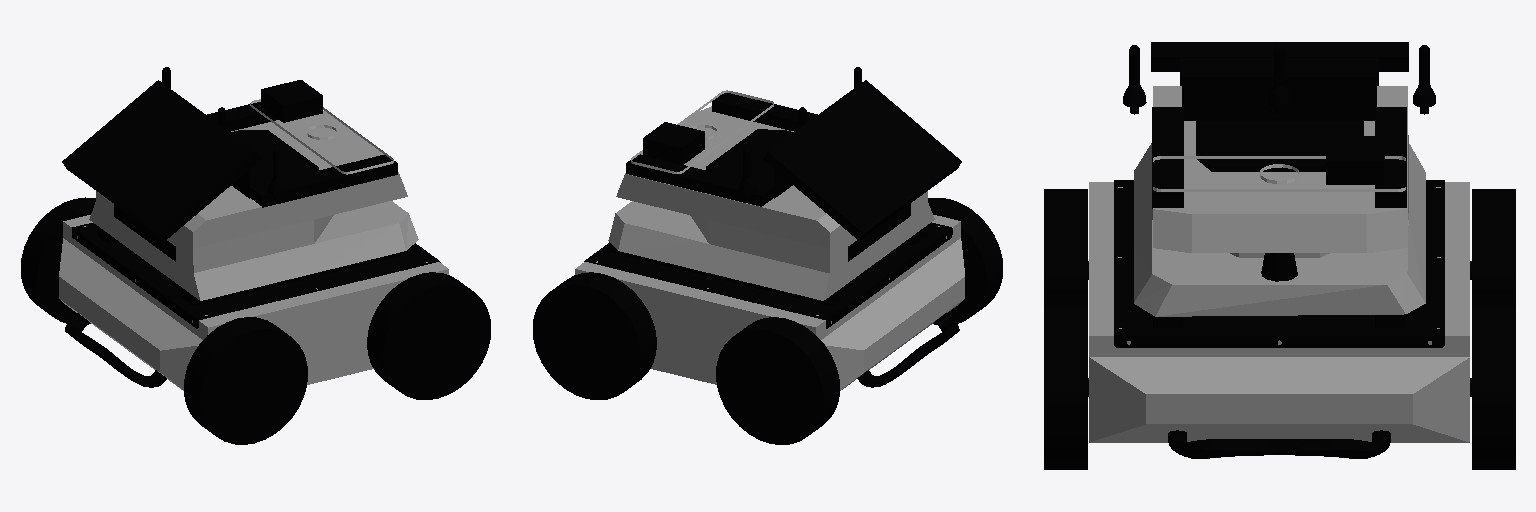
URDF robot description (mmc1_mr):
<?xml version="1.0" encoding="utf-8"?>
<!-- This URDF was automatically created by SolidWorks to URDF Exporter! Originally created by Stephen Brawner (brawner@gmail.com) 
     Commit Version: 1.5.1-0-g916b5db  Build Version: 1.5.7152.31018
     For more information, please see http://wiki.ros.org/sw_urdf_exporter -->
<robot
  name="mmc1_mr">
  <link
    name="base_link">
    <inertial>
      <origin
        xyz="-0.024749 0.0027022 0.050441"
        rpy="0 0 0" />
      <mass
        value="18" />
      <inertia
        ixx="0.021933"
        ixy="0.00047885"
        ixz="0.0012726"
        iyy="0.027828"
        iyz="-0.00011003"
        izz="0.045622" />
    </inertial>
    <visual>
      <origin
        xyz="0 0 0"
        rpy="0 0 0" />
      <geometry>
        <mesh
          filename="package://mmc1_description/meshes/base_link_sc.STL" />
      </geometry>
      <material
        name="">
        <color
          rgba="0.62 0.62 0.62 1" />
      </material>
    </visual>
    <collision>
      <origin
        xyz="0 0 0"
        rpy="0 0 0" />
      <geometry>
        <mesh
          filename="package://mmc1_description/meshes/base_link_sc.STL" />
      </geometry>
    </collision>
  </link>
  <link
    name="base_black_link">
    <inertial>
      <origin
        xyz="0.0030623 4.2491E-06 -0.054227"
        rpy="0 0 0" />
      <mass
        value="11" />
      <inertia
        ixx="0.01124"
        ixy="-3.9646E-07"
        ixz="9.4683E-06"
        iyy="0.009435"
        iyz="1.3728E-08"
        izz="0.020524" />
    </inertial>
    <visual>
      <origin
        xyz="0 0 0"
        rpy="0 0 0" />
      <geometry>
        <mesh
          filename="package://mmc1_description/meshes/base_black_link.STL" />
      </geometry>
      <material
        name="">
        <color
          rgba="0.03 0.03 0.03 1" />
      </material>
    </visual>
    <collision>
      <origin
        xyz="0 0 0"
        rpy="0 0 0" />
      <geometry>
        <mesh
          filename="package://mmc1_description/meshes/base_black_link.STL" />
      </geometry>
    </collision>
  </link>
  <joint
    name="base_black_joint"
    type="fixed">
    <origin
      xyz="-0.0021657 0 0.1537"
      rpy="0 0 0" />
    <parent
      link="base_link" />
    <child
      link="base_black_link" />
    <axis
      xyz="0 0 0" />
  </joint>
  <link
    name="front_left_wheel_link">
    <inertial>
      <origin
        xyz="-1.0457E-05 -0.009711 1.2528E-05"
        rpy="0 0 0" />
      <mass
        value="1.5" />
      <inertia
        ixx="0.0023806"
        ixy="-5.1799E-09"
        ixz="3.3691E-07"
        iyy="0.004547"
        iyz="4.7143E-09"
        izz="0.0023798" />
    </inertial>
    <visual>
      <origin
        xyz="0 0 0"
        rpy="0 0 0" />
      <geometry>
        <mesh
          filename="package://mmc1_description/meshes/front_left_wheel_link_sc.STL" />
      </geometry>
      <material
        name="">
        <color
          rgba="0.03 0.03 0.03 1" />
      </material>
    </visual>
    <collision>
      <origin
        xyz="0 0 0"
        rpy="0 0 0" />
      <geometry>
        <mesh
          filename="package://mmc1_description/meshes/front_left_wheel_link_sc.STL" />
      </geometry>
    </collision>
  </link>
  <joint
    name="front_left_wheel_joint"
    type="continuous">
    <origin
      xyz="0.175 0.28005 0.052199"
      rpy="0 0 0" />
    <parent
      link="base_link" />
    <child
      link="front_left_wheel_link" />
    <axis
      xyz="0 -1 0" />
  </joint>
  <link
    name="front_right_wheel_link">
    <inertial>
      <origin
        xyz="5.9336E-06 0.0097111 -1.4936E-05"
        rpy="0 0 0" />
      <mass
        value="1.5" />
      <inertia
        ixx="0.0023802"
        ixy="-3.3583E-09"
        ixz="5.1898E-07"
        iyy="0.0045471"
        iyz="6.8879E-09"
        izz="0.0023801" />
    </inertial>
    <visual>
      <origin
        xyz="0 0 0"
        rpy="0 0 0" />
      <geometry>
        <mesh
          filename="package://mmc1_description/meshes/front_right_wheel_link_sc.STL" />
      </geometry>
      <material
        name="">
        <color
          rgba="0.03 0.03 0.03 1" />
      </material>
    </visual>
    <collision>
      <origin
        xyz="0 0 0"
        rpy="0 0 0" />
      <geometry>
        <mesh
          filename="package://mmc1_description/meshes/front_right_wheel_link_sc.STL" />
      </geometry>
    </collision>
  </link>
  <joint
    name="front_right_wheel_joint"
    type="continuous">
    <origin
      xyz="0.175 -0.28005 0.052202"
      rpy="0 0 0" />
    <parent
      link="base_link" />
    <child
      link="front_right_wheel_link" />
    <axis
      xyz="0 1 0" />
  </joint>
  <link
    name="rear_left_wheel_link">
    <inertial>
      <origin
        xyz="-1.1327E-05 -0.009711 1.1649E-05"
        rpy="0 0 0" />
      <mass
        value="1.5" />
      <inertia
        ixx="0.0023805"
        ixy="-5.5206E-09"
        ixz="3.8945E-07"
        iyy="0.004547"
        iyz="4.432E-09"
        izz="0.0023798" />
    </inertial>
    <visual>
      <origin
        xyz="0 0 0"
        rpy="0 0 0" />
      <geometry>
        <mesh
          filename="package://mmc1_description/meshes/rear_left_wheel_link_sc.STL" />
      </geometry>
      <material
        name="">
        <color
          rgba="0.03 0.03 0.03 1" />
      </material>
    </visual>
    <collision>
      <origin
        xyz="0 0 0"
        rpy="0 0 0" />
      <geometry>
        <mesh
          filename="package://mmc1_description/meshes/rear_left_wheel_link_sc.STL" />
      </geometry>
    </collision>
  </link>
  <joint
    name="rear_left_wheel_joint"
    type="continuous">
    <origin
      xyz="-0.174998131093904 0.280049999999999 0.052198748930327"
      rpy="0 0 0" />
    <parent
      link="base_link" />
    <child
      link="rear_left_wheel_link" />
    <axis
      xyz="0 -1 0" />
  </joint>
  <link
    name="rear_right_wheel_link">
    <inertial>
      <origin
        xyz="6.0975E-06 0.009711 -1.5028E-05"
        rpy="0 0 0" />
      <mass
        value="1.5" />
      <inertia
        ixx="0.0023802"
        ixy="-5.727E-09"
        ixz="5.1897E-07"
        iyy="0.0045471"
        iyz="8.2022E-09"
        izz="0.0023801" />
    </inertial>
    <visual>
      <origin
        xyz="0 0 0"
        rpy="0 0 0" />
      <geometry>
        <mesh
          filename="package://mmc1_description/meshes/rear_right_wheel_link_sc.STL" />
      </geometry>
      <material
        name="">
        <color
          rgba="0.03 0.03 0.03 1" />
      </material>
    </visual>
    <collision>
      <origin
        xyz="0 0 0"
        rpy="0 0 0" />
      <geometry>
        <mesh
          filename="package://mmc1_description/meshes/rear_right_wheel_link_sc.STL" />
      </geometry>
    </collision>
  </link>
  <joint
    name="rear_right_wheel_joint"
    type="continuous">
    <origin
      xyz="-0.175 -0.28005 0.052202"
      rpy="0 0 0" />
    <parent
      link="base_link" />
    <child
      link="rear_right_wheel_link" />
    <axis
      xyz="0 1 0" />
  </joint>
  <link
    name="navi_tool_silver_link">
    <inertial>
      <origin
        xyz="0.018841 -0.00012546 0.058135"
        rpy="0 0 0" />
      <mass
        value="4" />
      <inertia
        ixx="0.0087345"
        ixy="1.3619E-06"
        ixz="-6.4658E-05"
        iyy="0.010197"
        iyz="-9.6238E-07"
        izz="0.016356" />
    </inertial>
    <visual>
      <origin
        xyz="0 0 0"
        rpy="0 0 0" />
      <geometry>
        <mesh
          filename="package://mmc1_description/meshes/navi_tool_silver_link_sc.STL" />
      </geometry>
      <material
        name="">
        <color
          rgba="0.62 0.62 0.62 1" />
      </material>
    </visual>
    <collision>
      <origin
        xyz="0 0 0"
        rpy="0 0 0" />
      <geometry>
        <mesh
          filename="package://mmc1_description/meshes/navi_tool_silver_link_sc.STL" />
      </geometry>
    </collision>
  </link>
  <joint
    name="navi_tool_silver_joint"
    type="fixed">
    <origin
      xyz="0.0039305 8.5407E-05 0.1722"
      rpy="0 0 0" />
    <parent
      link="base_link" />
    <child
      link="navi_tool_silver_link" />
    <axis
      xyz="0 0 0" />
  </joint>
  <link
    name="navi_tool_black_link">
    <inertial>
      <origin
        xyz="-0.14514 0.00011961 -0.00048361"
        rpy="0 0 0" />
      <mass
        value="3" />
      <inertia
        ixx="0.020614"
        ixy="2.8801E-06"
        ixz="-0.0024088"
        iyy="0.0095521"
        iyz="-1.5725E-06"
        izz="0.026573" />
    </inertial>
    <visual>
      <origin
        xyz="0 0 0"
        rpy="0 0 0" />
      <geometry>
        <mesh
          filename="package://mmc1_description/meshes/navi_tool_black_link_sc.STL" />
      </geometry>
      <material
        name="">
        <color
          rgba="0.03 0.03 0.03 1" />
      </material>
    </visual>
    <collision>
      <origin
        xyz="0 0 0"
        rpy="0 0 0" />
      <geometry>
        <mesh
          filename="package://mmc1_description/meshes/navi_tool_black_link_sc.STL" />
      </geometry>
    </collision>
  </link>
  <joint
    name="navi_tool_black_joint"
    type="fixed">
    <origin
      xyz="0.000225099929230491 0 0.3032"
      rpy="0 0 0" />
    <parent
      link="base_link" />
    <child
      link="navi_tool_black_link" />
    <axis
      xyz="0 0 0" />
  </joint>
  <link
    name="imu_link">
    <inertial>
      <origin
        xyz="0 -0.0028567 0.011065"
        rpy="0 0 0" />
      <mass
        value="0.3" />
      <inertia
        ixx="1.0867E-05"
        ixy="5.1072E-20"
        ixz="-2.1104E-21"
        iyy="5.8923E-06"
        iyz="2.3558E-07"
        izz="1.3182E-05" />
    </inertial>
    <visual>
      <origin
        xyz="0 0 0"
        rpy="0 0 0" />
      <geometry>
        <mesh
          filename="package://mmc1_description/meshes/imu_link.STL" />
      </geometry>
      <material
        name="">
        <color
          rgba="0.03 0.03 0.03 1" />
      </material>
    </visual>
    <collision>
      <origin
        xyz="0 0 0"
        rpy="0 0 0" />
      <geometry>
        <mesh
          filename="package://mmc1_description/meshes/imu_link.STL" />
      </geometry>
    </collision>
  </link>
  <joint
    name="imu_joint"
    type="fixed">
    <origin
      xyz="0.051564 0 0.1852"
      rpy="0 0 0" />
    <parent
      link="base_link" />
    <child
      link="imu_link" />
    <axis
      xyz="0 0 0" />
  </joint>
  <link
    name="laser_F_link">
    <inertial>
      <origin
        xyz="-0.000703 0.00013361 0.026328"
        rpy="0 0 0" />
      <mass
        value="0.5" />
      <inertia
        ixx="4.0851E-05"
        ixy="-8.5077E-08"
        ixz="2.92E-07"
        iyy="4.0004E-05"
        iyz="1.3035E-07"
        izz="3.5002E-05" />
    </inertial>
    <visual>
      <origin
        xyz="0 0 0"
        rpy="0 0 0" />
      <geometry>
        <mesh
          filename="package://mmc1_description/meshes/laser_link_sc.STL" />
      </geometry>
      <material
        name="">
        <color
          rgba="0.03 0.03 0.03 1" />
      </material>
    </visual>
    <collision>
      <origin
        xyz="0 0 0"
        rpy="0 0 0" />
      <geometry>
        <mesh
          filename="package://mmc1_description/meshes/laser_link_sc.STL" />
      </geometry>
    </collision>
  </link>
  <joint
    name="laser_F_joint"
    type="fixed">
    <origin
      xyz="0.18095 0 0.1732"
      rpy="0 0 0" />
    <parent
      link="base_link" />
    <child
      link="laser_F_link" />
    <axis
      xyz="0 0 0" />
  </joint>
  <link
    name="antenna_1_link">
    <inertial>
      <origin
        xyz="0 -2.2119E-09 -0.056295"
        rpy="0 0 0" />
      <mass
        value="0.3" />
      <inertia
        ixx="1.2899E-05"
        ixy="9.534E-30"
        ixz="-2.1853E-21"
        iyy="1.2899E-05"
        iyz="-3.1472E-13"
        izz="1.3576E-06" />
    </inertial>
    <visual>
      <origin
        xyz="0 0 0"
        rpy="0 0 0" />
      <geometry>
        <mesh
          filename="package://mmc1_description/meshes/antenna_link_sc.STL" />
      </geometry>
      <material
        name="">
        <color
          rgba="0.03 0.03 0.03 1" />
      </material>
    </visual>
    <collision>
      <origin
        xyz="0 0 0"
        rpy="0 0 0" />
      <geometry>
        <mesh
          filename="package://mmc1_description/meshes/antenna_link_sc.STL" />
      </geometry>
    </collision>
  </link>
  <joint
    name="antenna_1_joint"
    type="fixed">
    <origin
      xyz="-0.0657243758272412 0.182794228634097 0.4167"
      rpy="0 0 0" />
    <parent
      link="base_link" />
    <child
      link="antenna_1_link" />
    <axis
      xyz="0 0 0" />
  </joint>
  <link
    name="antenna_2_link">
    <inertial>
      <origin
        xyz="0 -2.2119E-09 -0.056295"
        rpy="0 0 0" />
      <mass
        value="0.3" />
      <inertia
        ixx="1.2899E-05"
        ixy="4.2733E-29"
        ixz="4.2017E-23"
        iyy="1.2899E-05"
        iyz="-3.1472E-13"
        izz="1.3576E-06" />
    </inertial>
    <visual>
      <origin
        xyz="0 0 0"
        rpy="0 0 0" />
      <geometry>
        <mesh
          filename="package://mmc1_description/meshes/antenna_link_sc.STL" />
      </geometry>
      <material
        name="">
        <color
          rgba="0.03 0.03 0.03 1" />
      </material>
    </visual>
    <collision>
      <origin
        xyz="0 0 0"
        rpy="0 0 0" />
      <geometry>
        <mesh
          filename="package://mmc1_description/meshes/antenna_link_sc.STL" />
      </geometry>
    </collision>
  </link>
  <joint
    name="antenna_2_joint"
    type="fixed">
    <origin
      xyz="-0.065724 0 0.4167"
      rpy="0 0 0" />
    <parent
      link="base_link" />
    <child
      link="antenna_2_link" />
    <axis
      xyz="0 0 0" />
  </joint>
  <link
    name="antenna_3_link">
    <inertial>
      <origin
        xyz="0 -2.2119E-09 -0.056295"
        rpy="0 0 0" />
      <mass
        value="0.3" />
      <inertia
        ixx="1.2899E-05"
        ixy="8.6398E-29"
        ixz="1.6765E-22"
        iyy="1.2899E-05"
        iyz="-3.1472E-13"
        izz="1.3576E-06" />
    </inertial>
    <visual>
      <origin
        xyz="0 0 0"
        rpy="0 0 0" />
      <geometry>
        <mesh
          filename="package://mmc1_description/meshes/antenna_link_sc.STL" />
      </geometry>
      <material
        name="">
        <color
          rgba="0.03 0.03 0.03 1" />
      </material>
    </visual>
    <collision>
      <origin
        xyz="0 0 0"
        rpy="0 0 0" />
      <geometry>
        <mesh
          filename="package://mmc1_description/meshes/antenna_link_sc.STL" />
      </geometry>
    </collision>
  </link>
  <joint
    name="antenna_3_joint"
    type="fixed">
    <origin
      xyz="-0.065724 -0.18279 0.4167"
      rpy="0 0 0" />
    <parent
      link="base_link" />
    <child
      link="antenna_3_link" />
    <axis
      xyz="0 0 0" />
  </joint>
  <link
    name="arm_link">
    <inertial>
      <origin
        xyz="-3.7297E-17 -9.6104E-16 -0.0025"
        rpy="0 0 0" />
      <mass
        value="1" />
      <inertia
        ixx="0.0011629"
        ixy="5.4504E-11"
        ixz="6.0854E-22"
        iyy="0.00011851"
        iyz="-2.7115E-21"
        izz="0.0012809" />
    </inertial>
    <visual>
      <origin
        xyz="0 0 0"
        rpy="0 0 0" />
      <geometry>
        <mesh
          filename="package://mmc1_description/meshes/arm_link_sc.STL" />
      </geometry>
      <material
        name="">
        <color
          rgba="0.8 0.8 0.8 1" />
      </material>
    </visual>
    <collision>
      <origin
        xyz="0 0 0"
        rpy="0 0 0" />
      <geometry>
        <mesh
          filename="package://mmc1_description/meshes/arm_link_sc.STL" />
      </geometry>
    </collision>
  </link>
  <joint
    name="arm_joint"
    type="fixed">
    <origin
      xyz="0.12581 0 0.3292"
      rpy="0 0 0" />
    <parent
      link="base_link" />
    <child
      link="arm_link" />
    <axis
      xyz="0 0 0" />
  </joint>
  <link
    name="power_link">
    <inertial>
      <origin
        xyz="6.4588E-05 6.0729E-06 0.013207"
        rpy="0 0 0" />
      <mass
        value="0.3" />
      <inertia
        ixx="5.0048E-05"
        ixy="3.1114E-08"
        ixz="-3.1303E-07"
        iyy="6.9077E-05"
        iyz="3.693E-09"
        izz="0.00010228" />
    </inertial>
    <visual>
      <origin
        xyz="0 0 0"
        rpy="0 0 0" />
      <geometry>
        <mesh
          filename="package://mmc1_description/meshes/power_link_sc.STL" />
      </geometry>
      <material
        name="">
        <color
          rgba="0.03 0.03 0.03 1" />
      </material>
    </visual>
    <collision>
      <origin
        xyz="0 0 0"
        rpy="0 0 0" />
      <geometry>
        <mesh
          filename="package://mmc1_description/meshes/power_link_sc.STL" />
      </geometry>
    </collision>
  </link>
  <joint
    name="power_joint"
    type="fixed">
    <origin
      xyz="0.12523 0.095999 0.3292"
      rpy="0 0 0" />
    <parent
      link="base_link" />
    <child
      link="power_link" />
    <axis
      xyz="0 0 0" />
  </joint>
</robot>

--- Facts derived from the render (not from the file) ---
Views: 3 orthographic renders of the robot side by side, from view 1: azimuth 30°, elevation 25°; view 2: azimuth 150°, elevation 25°; view 3: azimuth 270°, elevation 25°.
Model mmc1_mr with 15 links and 14 joints (4 continuous, 10 fixed), rooted at base_link, posed all joints at 0.
Links seen in each view (by area): view 1: navi_tool_silver_link, navi_tool_black_link, base_link, rear_right_wheel_link, front_right_wheel_link, base_black_link, rear_left_wheel_link, power_link, arm_link, antenna_3_link; view 2: navi_tool_black_link, navi_tool_silver_link, base_link, rear_left_wheel_link, front_left_wheel_link, base_black_link, rear_right_wheel_link, power_link, arm_link, antenna_1_link; view 3: base_link, navi_tool_silver_link, navi_tool_black_link, base_black_link, front_left_wheel_link, front_right_wheel_link, rear_left_wheel_link, rear_right_wheel_link, power_link, arm_link, antenna_1_link, antenna_3_link (+2 smaller).
Boxes of the visible links, x1=… form: navi_tool_silver_link: x1=89, y1=111, x2=418, y2=300; navi_tool_black_link: x1=62, y1=80, x2=397, y2=261; base_link: x1=59, y1=215, x2=448, y2=390; rear_right_wheel_link: x1=184, y1=317, x2=307, y2=444; front_right_wheel_link: x1=367, y1=272, x2=490, y2=399; base_black_link: x1=65, y1=223, x2=440, y2=387; rear_left_wheel_link: x1=21, y1=197, x2=95, y2=324; power_link: x1=261, y1=80, x2=322, y2=122; arm_link: x1=250, y1=99, x2=393, y2=174; antenna_3_link: x1=268, y1=148, x2=285, y2=200; navi_tool_black_link: x1=626, y1=80, x2=961, y2=261; navi_tool_silver_link: x1=608, y1=106, x2=934, y2=300; base_link: x1=575, y1=215, x2=964, y2=390; rear_left_wheel_link: x1=716, y1=317, x2=839, y2=444; front_left_wheel_link: x1=533, y1=272, x2=656, y2=399; base_black_link: x1=584, y1=222, x2=959, y2=387; rear_right_wheel_link: x1=928, y1=198, x2=1002, y2=324; power_link: x1=643, y1=122, x2=704, y2=164; arm_link: x1=631, y1=90, x2=773, y2=173; antenna_1_link: x1=738, y1=148, x2=755, y2=200; base_link: x1=1089, y1=182, x2=1469, y2=442; navi_tool_silver_link: x1=1134, y1=86, x2=1425, y2=316; navi_tool_black_link: x1=1151, y1=42, x2=1408, y2=208; base_black_link: x1=1088, y1=180, x2=1471, y2=458; front_left_wheel_link: x1=1472, y1=306, x2=1515, y2=469; front_right_wheel_link: x1=1044, y1=306, x2=1087, y2=469; rear_left_wheel_link: x1=1472, y1=189, x2=1515, y2=305; rear_right_wheel_link: x1=1044, y1=189, x2=1087, y2=305; power_link: x1=1326, y1=136, x2=1384, y2=184; arm_link: x1=1153, y1=156, x2=1405, y2=191; antenna_1_link: x1=1413, y1=45, x2=1435, y2=114; antenna_3_link: x1=1123, y1=45, x2=1146, y2=114.
Size in the robot's own frame: 0.6256 by 0.5943 by 0.4678 metres.
Meshes: 13 distinct files referenced, 15 mesh visuals loaded (13 binary STL).
